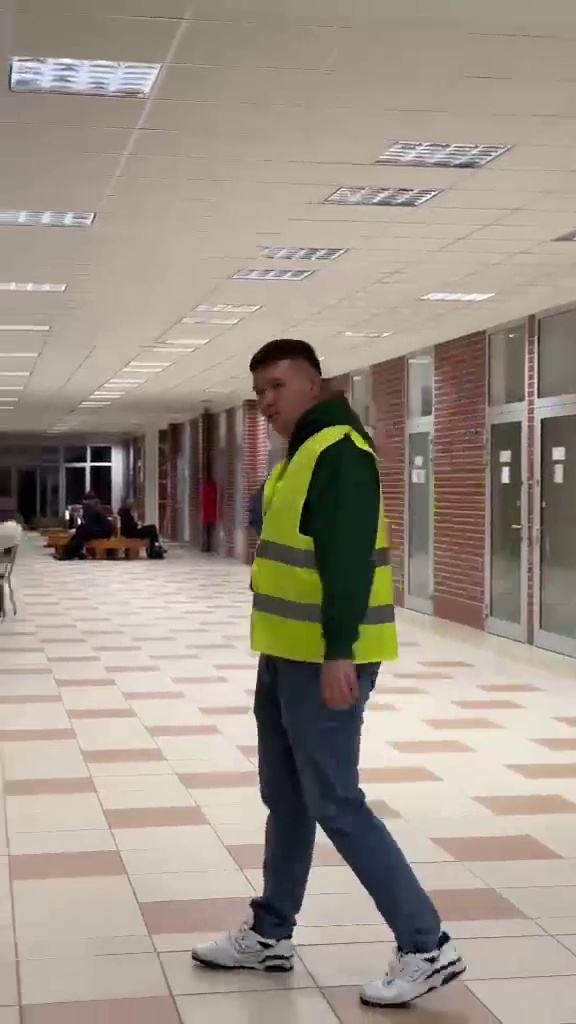vest: (223, 331, 462, 1014)
